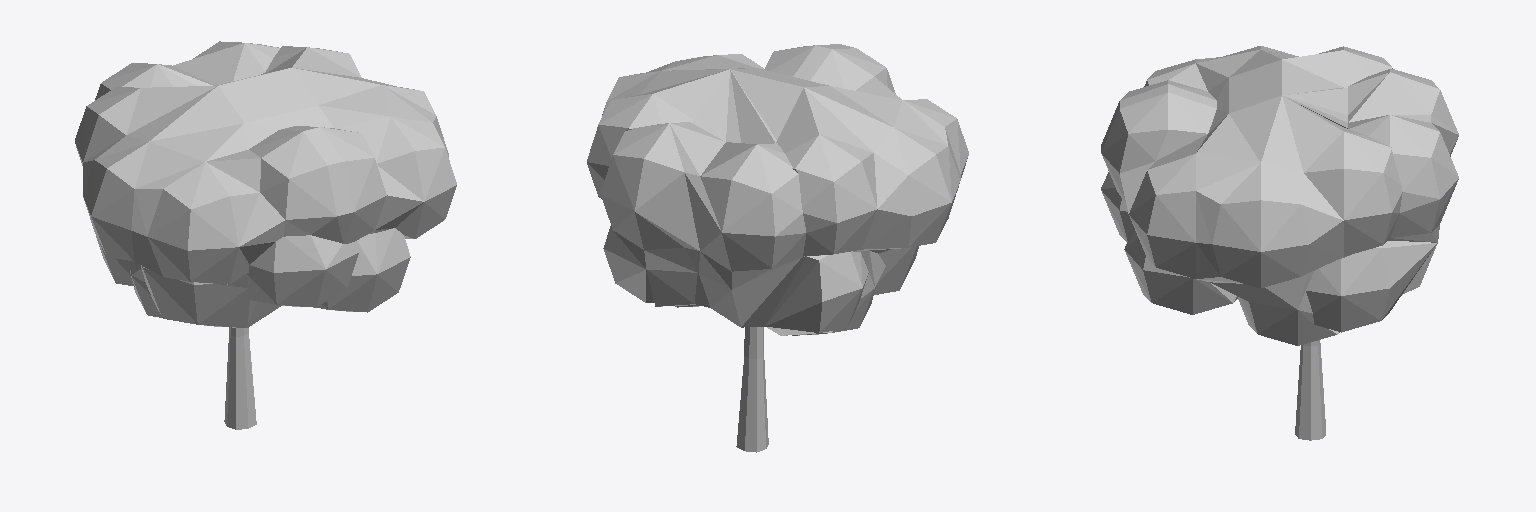
Rendered from oak1.obj.
The picture shows the model from 3 angles: view 1: azimuth 30°, elevation 25°; view 2: azimuth 150°, elevation 25°; view 3: azimuth 270°, elevation 25°; orthographic projection.
Parts seen in each view (by area): view 1: Mesh_0; view 2: Mesh_0; view 3: Mesh_0.
Part boxes in pixels (left/top/right/bottom): Mesh_0: left=75, top=41, right=456, bottom=429; Mesh_0: left=587, top=44, right=968, bottom=452; Mesh_0: left=1101, top=46, right=1458, bottom=440.
Size of the model in its own units: 0.6667 by 0.652 by 0.5935.